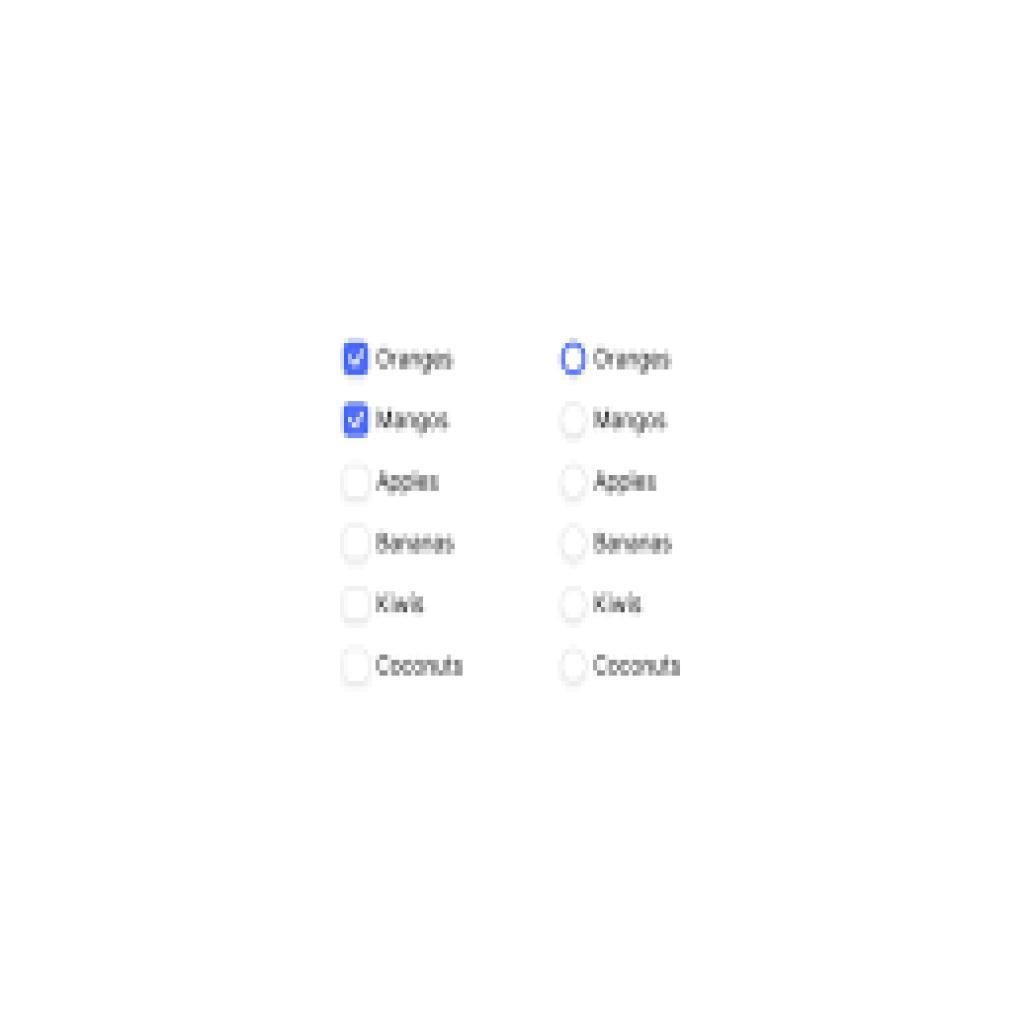checkbox: (341, 647, 374, 690), (340, 401, 374, 441), (339, 588, 373, 627), (341, 339, 373, 379)
radio: (339, 522, 376, 570), (556, 399, 593, 444), (556, 585, 592, 629), (558, 461, 591, 506), (558, 521, 591, 566), (339, 465, 374, 504), (558, 339, 590, 381), (557, 648, 589, 688)
